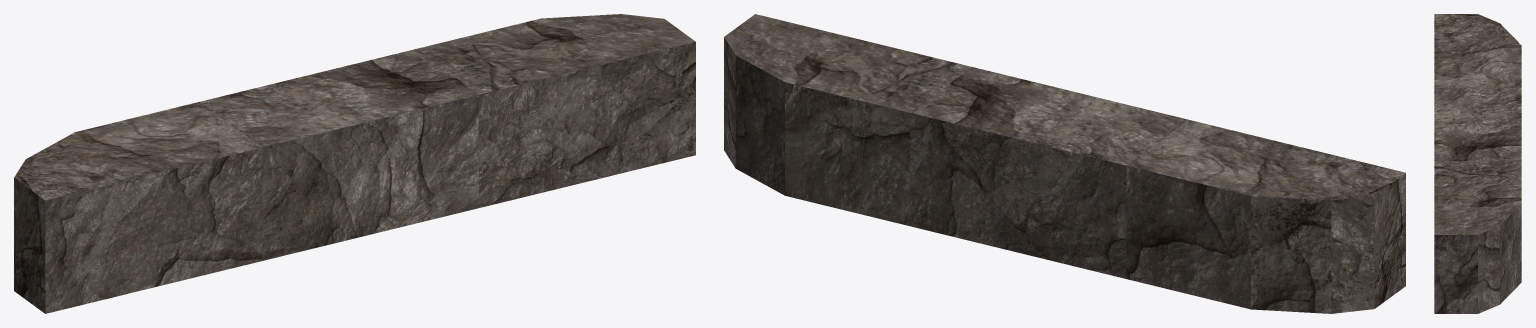
The model's file is rockpad.obj.
3 renders of one model, left to right at view 1: azimuth 30°, elevation 25°; view 2: azimuth 150°, elevation 25°; view 3: azimuth 270°, elevation 25°, orthographic. The views are drawn at different scales.
Parts seen in each view (by area): view 1: Cube; view 2: Cube; view 3: Cube.
Boxes of the visible parts, bbox=[...] form: Cube: bbox=[14, 14, 695, 313]; Cube: bbox=[724, 14, 1405, 313]; Cube: bbox=[1434, 14, 1521, 313].
Bounding box in the file's own units: 6 × 1 × 1.
Materials: 1 (1 with a texture image).
